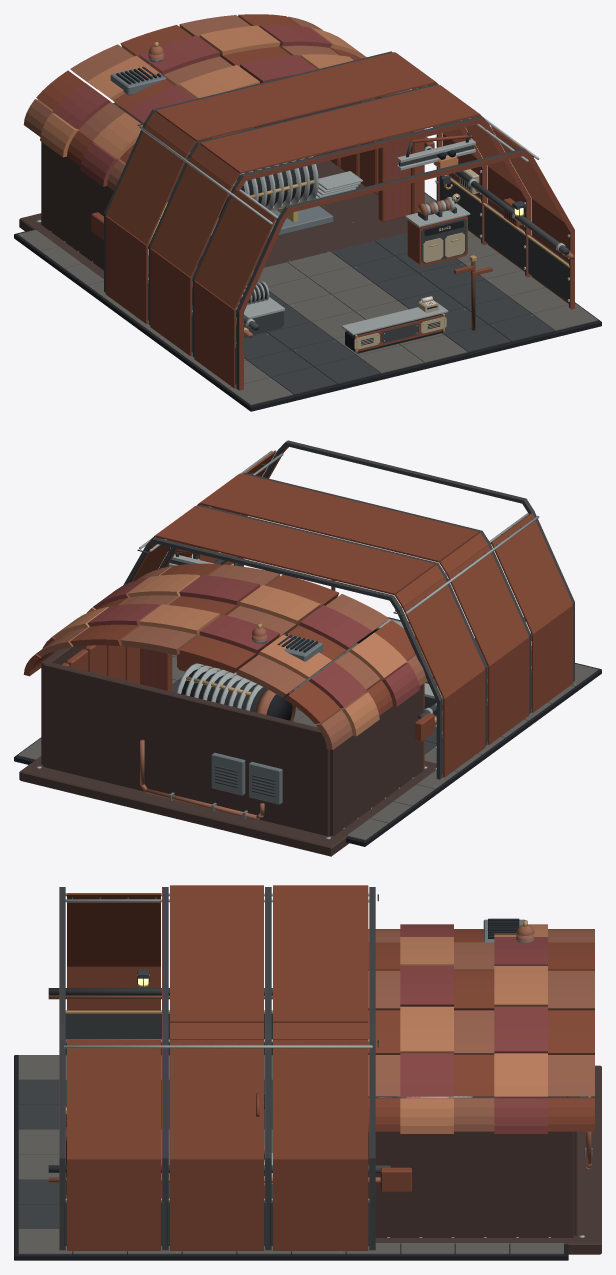
The model's file is scorchmaw-garage.glb.
3 views of the same model, one above another, from view 1: azimuth 30°, elevation 25°; view 2: azimuth 150°, elevation 25°; view 3: azimuth 270°, elevation 25° (orthographic). The views are drawn at different scales.
Visible parts, largest first — view 1: scorchmaw-garage; view 2: scorchmaw-garage; view 3: scorchmaw-garage.
Boxes of the visible parts, x1,y1,x2,y2 form: scorchmaw-garage: [14, 14, 601, 411]; scorchmaw-garage: [14, 440, 601, 856]; scorchmaw-garage: [14, 885, 601, 1260].
Bounding box in the file's own units: 17.08 × 8.53 × 21.14.
Materials: 22 (19 with a texture image).
